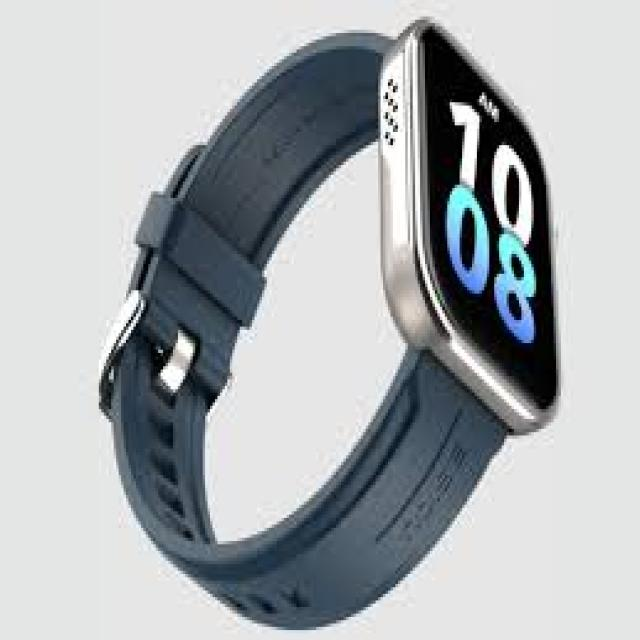objects: (99, 14, 562, 628)
